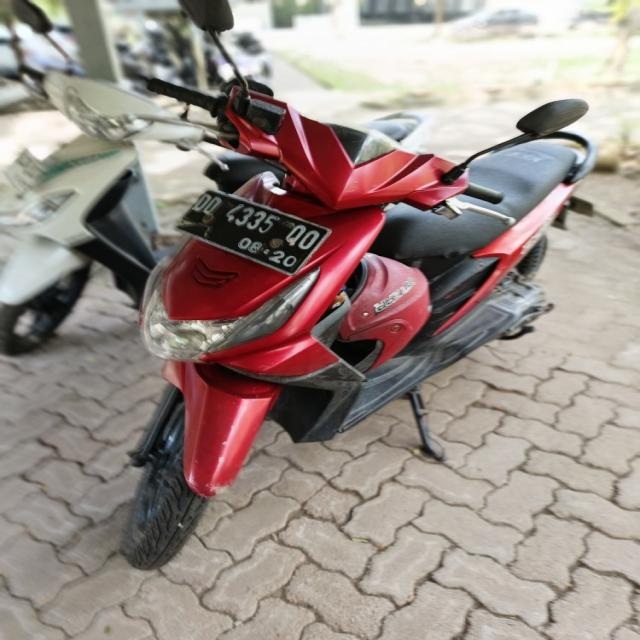plates: (183, 190, 324, 276)
